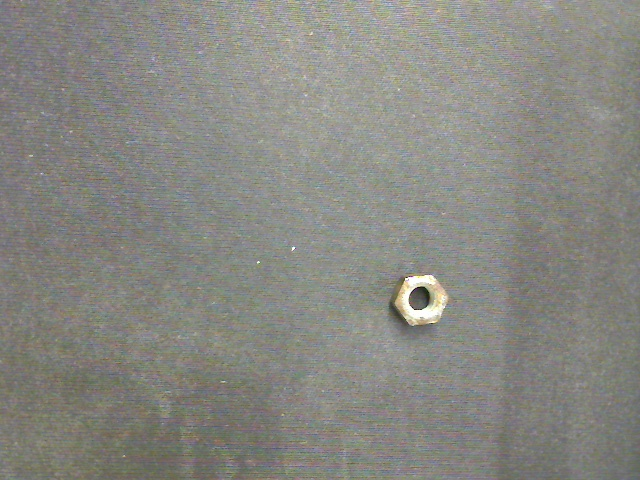Nut: (393, 274, 449, 327)
